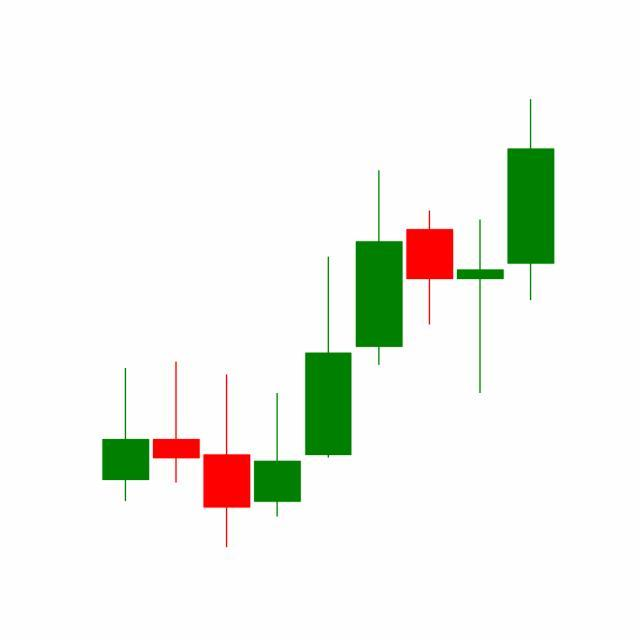Hikkake Pattern: (302, 99, 555, 463)
